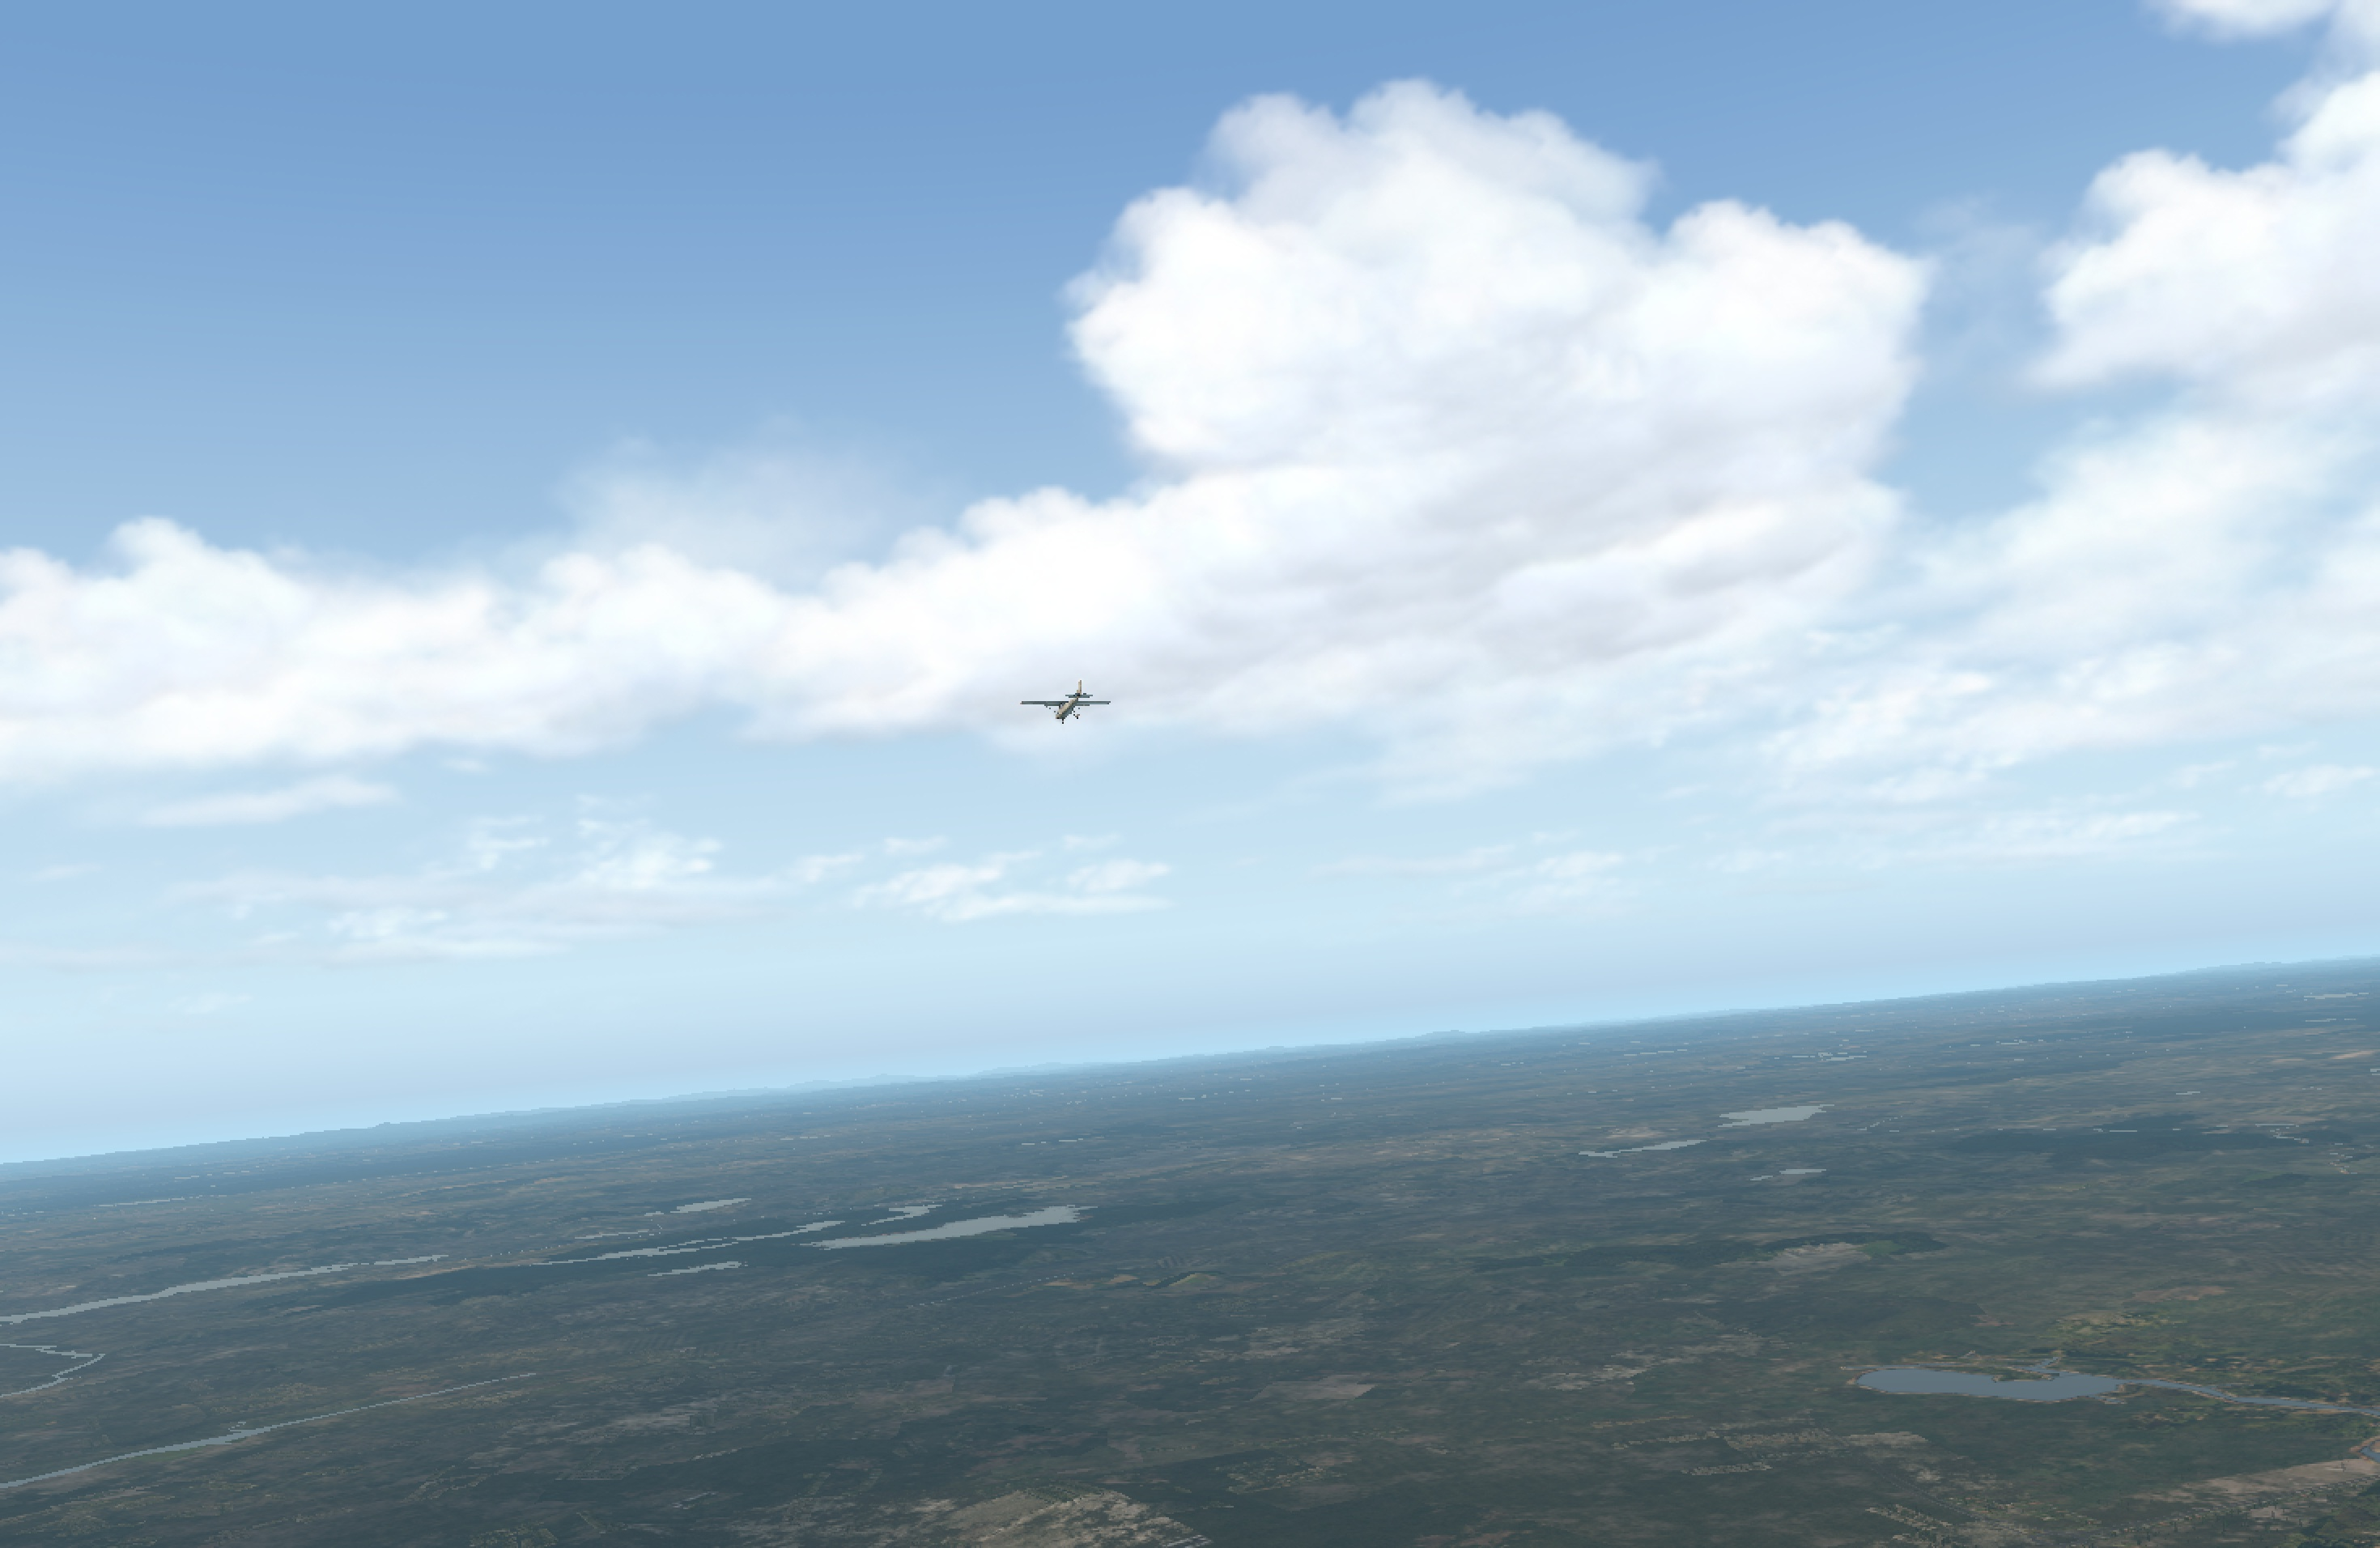aircraft: (1032, 696, 1100, 722)
